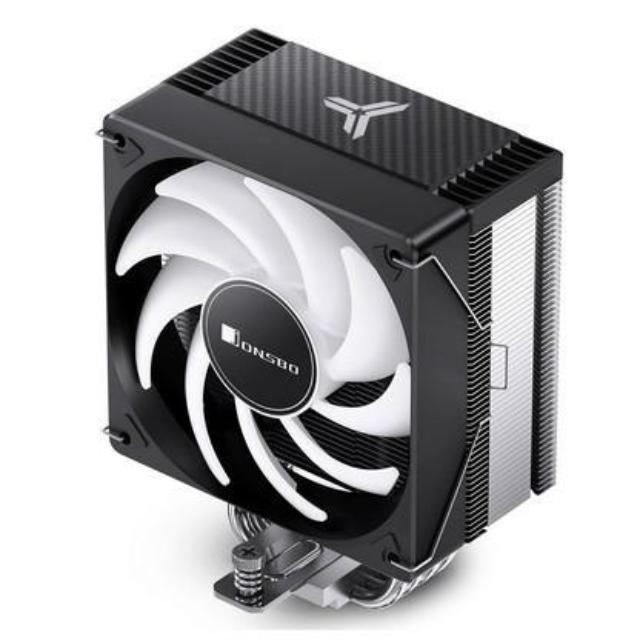CPU_Fan: (101, 26, 562, 606)
